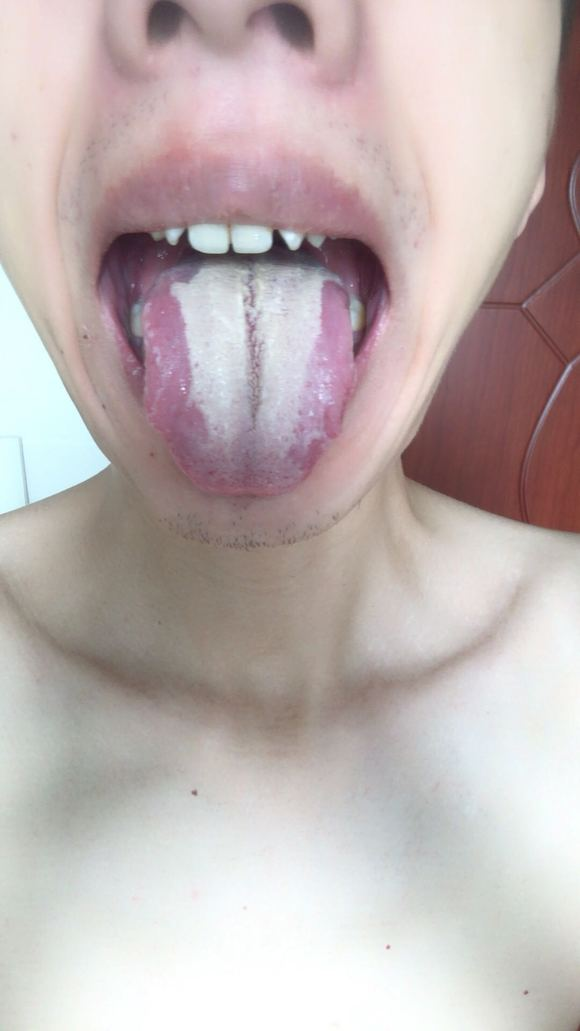baitaishe: (142, 245, 354, 496)
botaishe: (143, 282, 213, 446), (305, 279, 353, 433)
liewenshe: (240, 261, 266, 433)
